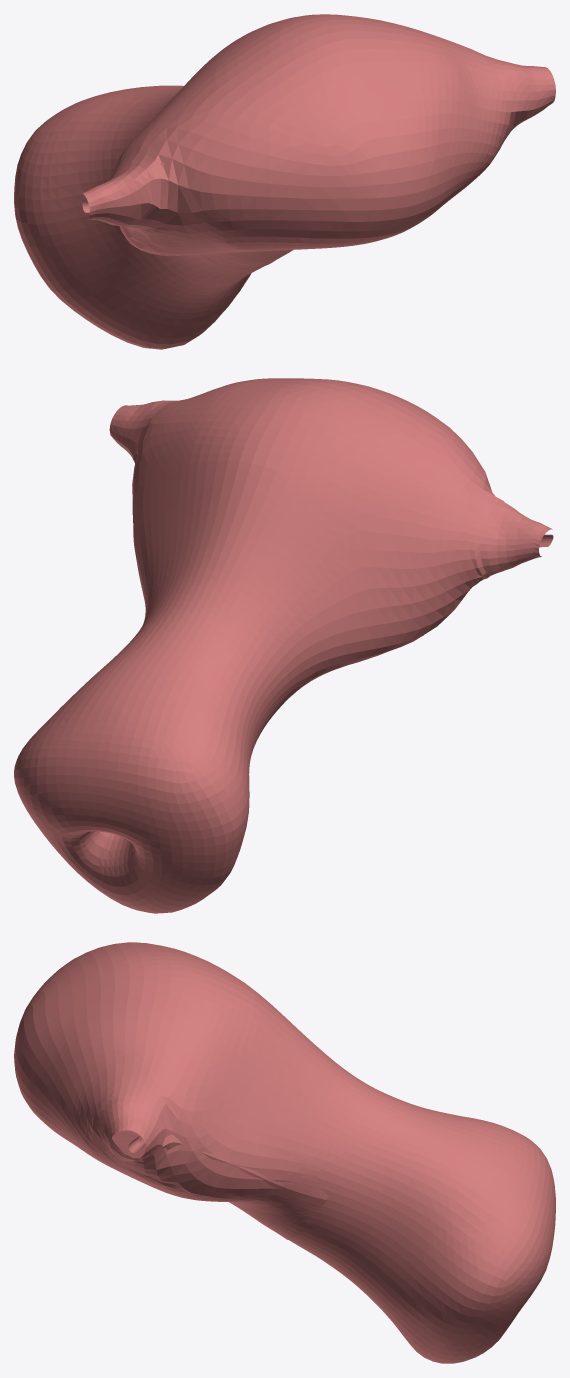
File: VH_F_Uterus_0.8.glb
3 renders of one model, top to bottom at view 1: azimuth 30°, elevation 25°; view 2: azimuth 150°, elevation 25°; view 3: azimuth 270°, elevation 25°, orthographic. The views are drawn at different scales.
Visible parts, largest first — view 1: VH_F_fundus_of_uterus, VH_F_cervix, VH_F_cornua, VH_F_posterior_wall_of_uterus, VH_F_lower_uterine_segment, VH_F_body_of_uterus; view 2: VH_F_body_of_uterus, VH_F_cervix, VH_F_fundus_of_uterus, VH_F_lower_uterine_segment, VH_F_cornua, VH_F_external_cervical_os; view 3: VH_F_cervix, VH_F_body_of_uterus, VH_F_fundus_of_uterus, VH_F_lower_uterine_segment, VH_F_posterior_wall_of_uterus, VH_F_cornua, VH_F_anterior_wall_of_uterus.
Part boxes in pixels (<box>): VH_F_fundus_of_uterus: <box>132,14,516,248</box>; VH_F_cervix: <box>14,85,251,349</box>; VH_F_cornua: <box>82,58,555,227</box>; VH_F_posterior_wall_of_uterus: <box>139,147,500,269</box>; VH_F_lower_uterine_segment: <box>119,87,262,285</box>; VH_F_body_of_uterus: <box>114,18,511,268</box>; VH_F_body_of_uterus: <box>132,421,486,694</box>; VH_F_cervix: <box>14,642,261,913</box>; VH_F_fundus_of_uterus: <box>142,378,495,513</box>; VH_F_lower_uterine_segment: <box>124,600,296,737</box>; VH_F_cornua: <box>109,400,552,578</box>; VH_F_external_cervical_os: <box>79,831,136,866</box>; VH_F_cervix: <box>332,1106,555,1363</box>; VH_F_body_of_uterus: <box>112,962,366,1213</box>; VH_F_fundus_of_uterus: <box>14,942,217,1163</box>; VH_F_lower_uterine_segment: <box>289,1083,419,1266</box>; VH_F_posterior_wall_of_uterus: <box>40,1119,326,1239</box>; VH_F_cornua: <box>95,942,164,1164</box>; VH_F_anterior_wall_of_uterus: <box>162,1134,328,1199</box>.
Size of the model in its own units: 0.0525 by 0.047 by 0.0587.
